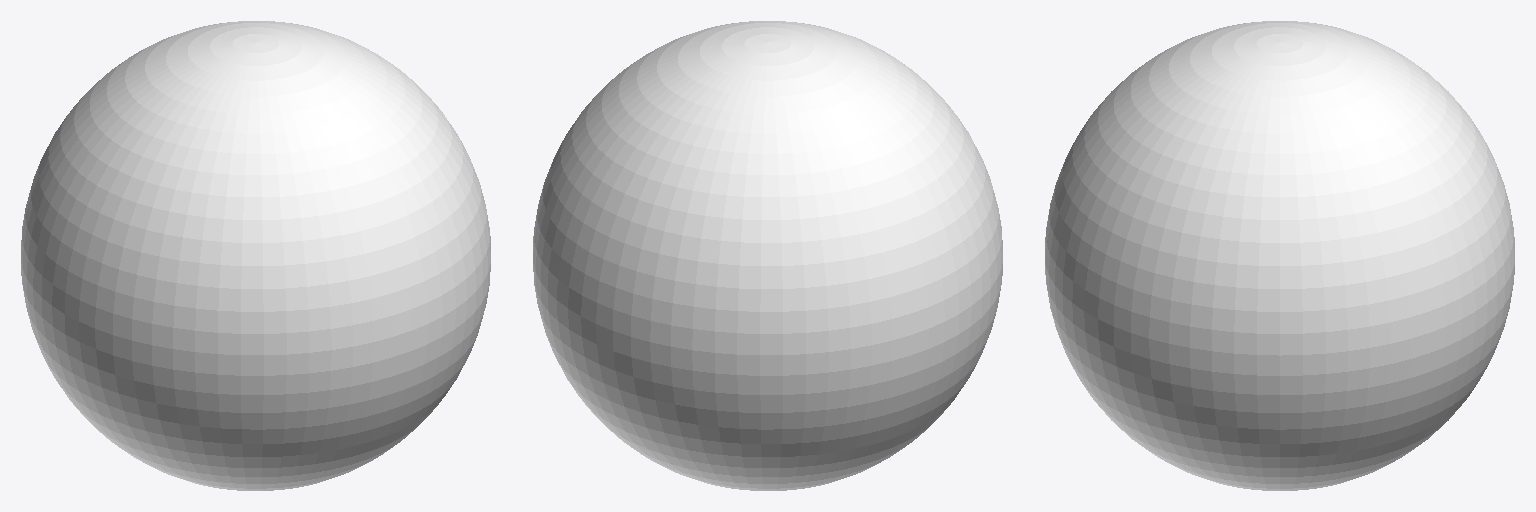
File: mars.obj
3 views of the same model, side by side, from view 1: azimuth 30°, elevation 25°; view 2: azimuth 150°, elevation 25°; view 3: azimuth 270°, elevation 25° (orthographic).
Parts seen in each view (by area): view 1: Mercury; view 2: Mercury; view 3: Mercury.
Boxes of the visible parts, box(x1,y1,x2,y2) form: Mercury: box(21, 21, 490, 490); Mercury: box(533, 21, 1002, 490); Mercury: box(1045, 21, 1514, 490).
Bounding box in the file's own units: 2 × 2 × 2.